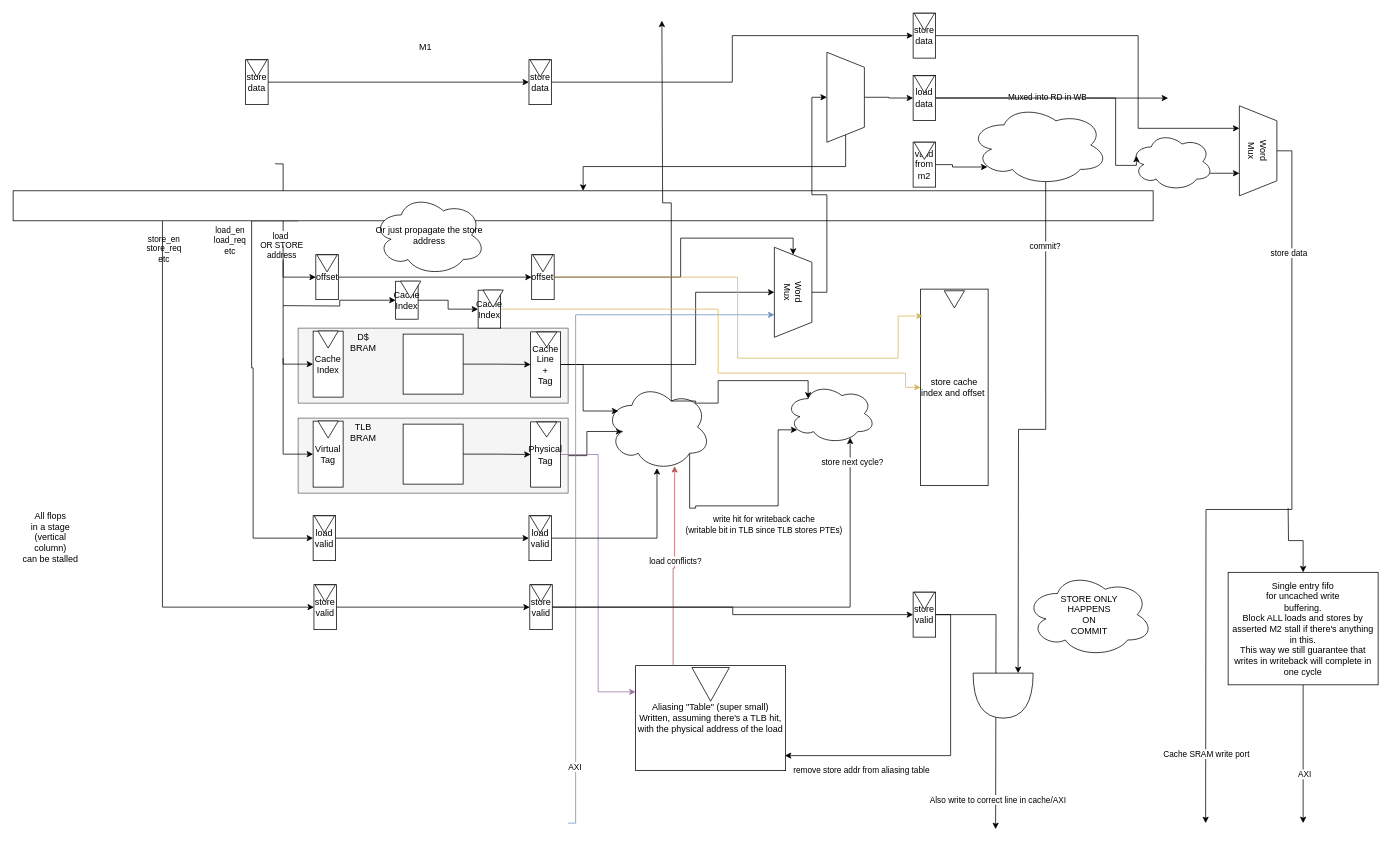
Some shapes in this 1391 by 848 pixel diagram are drawn without their labels. Here are the shapes that lost their labels. From the top down, the centre of each, then its label:
[845,97]: Byte/HW Mux, Sign extension, etc
[1038,145]: WB valid after taking into account possible flushes due to ex. exceptions
[1171,161]: Expensivish Comb Logic
[582,205]: dmss_if
[432,363]: D$ BRAM Cells
[658,427]: Tag Compare, Should stall? Load physical addr != entry in alias table
[830,413]: FSM
[432,453]: TLB BRAM Cells
